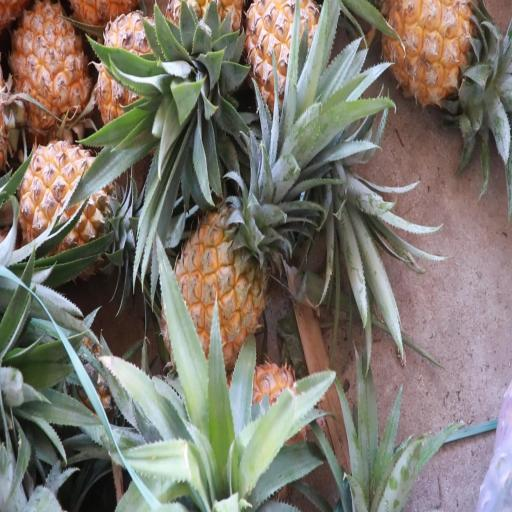Pineapple - v8 v1: (157, 190, 292, 383), (13, 132, 128, 282), (95, 11, 193, 154), (160, 0, 252, 137), (8, 1, 94, 145), (380, 0, 486, 115), (242, 0, 336, 125)
